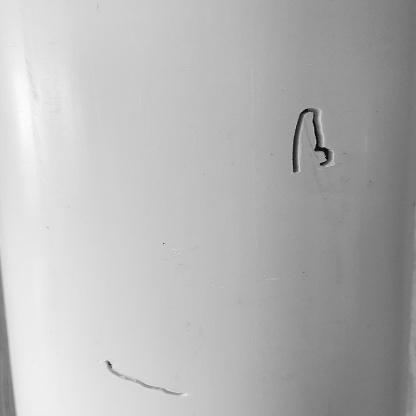fengxi: (290, 103, 333, 180)
sunshang: (102, 352, 199, 400)
